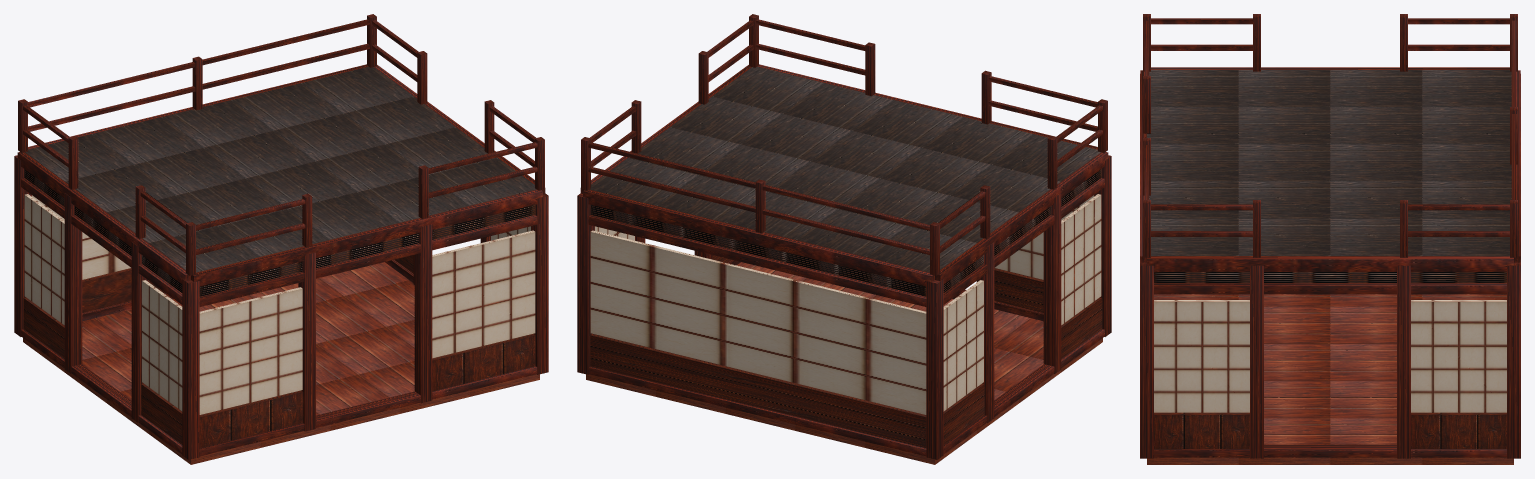
The model's file is CorrectedRoom_LOD2.fbx.
3 views of the same model, side by side, from view 1: azimuth 30°, elevation 25°; view 2: azimuth 150°, elevation 25°; view 3: azimuth 270°, elevation 25° (orthographic). The views are drawn at different scales.
Parts seen in each view (by area): view 1: Retopo_CorrectedRoom_LOD2.001; view 2: Retopo_CorrectedRoom_LOD2.001; view 3: Retopo_CorrectedRoom_LOD2.001.
Part boxes in pixels (x1,y1,x2,y2): Retopo_CorrectedRoom_LOD2.001: (14,14,548,464); Retopo_CorrectedRoom_LOD2.001: (577,14,1111,464); Retopo_CorrectedRoom_LOD2.001: (1140,14,1520,464).
Bounding box in the file's own units: 743 × 475 × 623.
